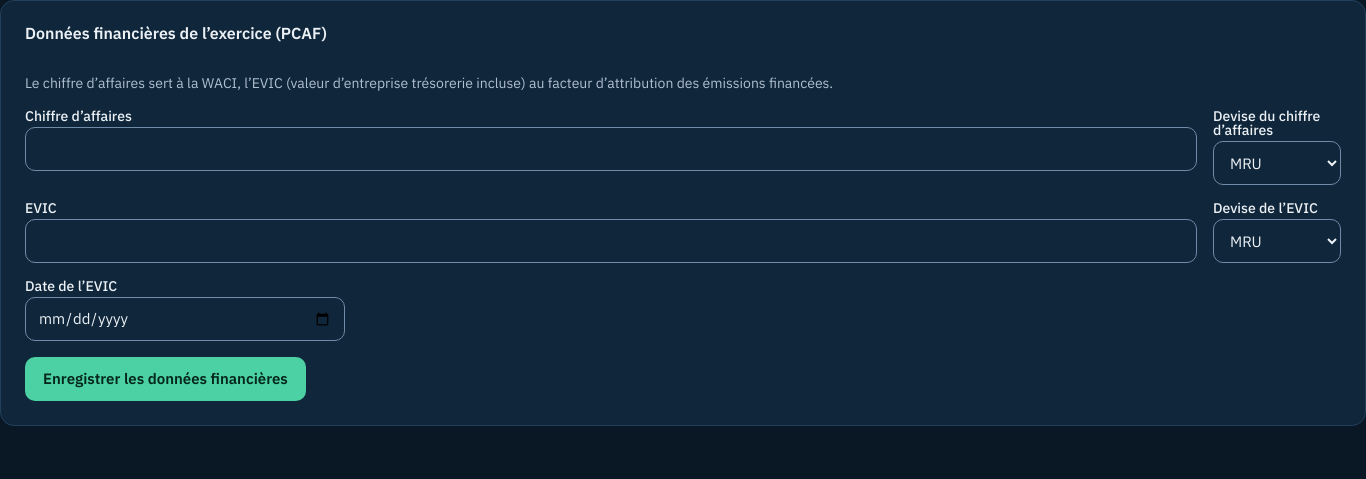
Test: ReportFinancialsCard › envoie le remplacement complet, la devise seulement avec son montant
The width and height of the screenshot is (1366, 479).
Type "1000000.5" into the number field labelled "EVIC".
click(611, 241); type("1000000.5")  # box [25,219,1197,263]
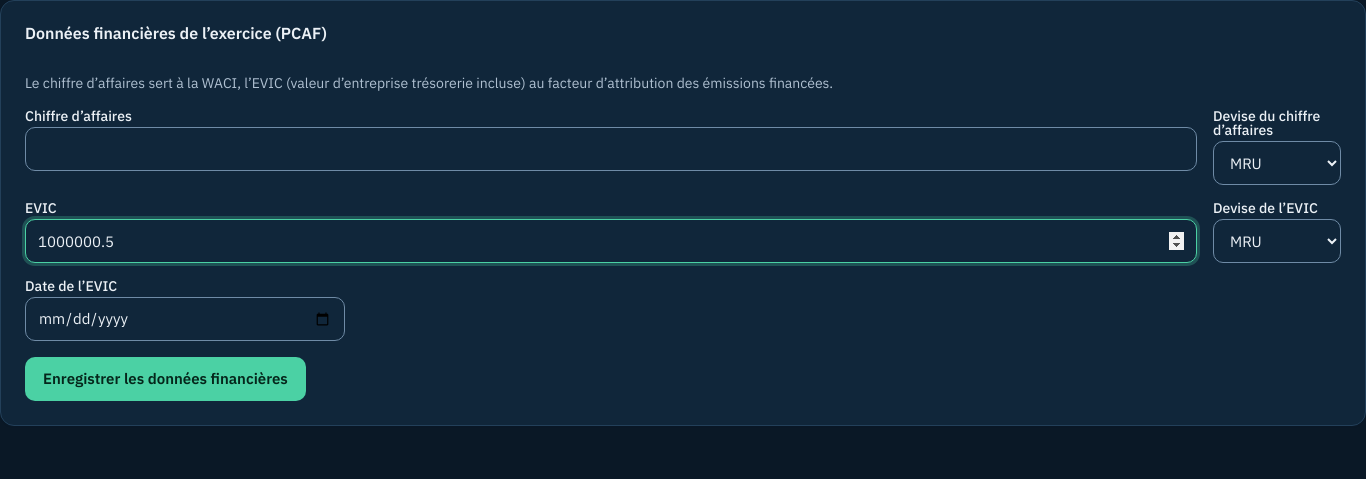
Select "EUR" in the dropdown labelled "Devise de l’EVIC" at (1277, 241), box [1213,219,1341,263]
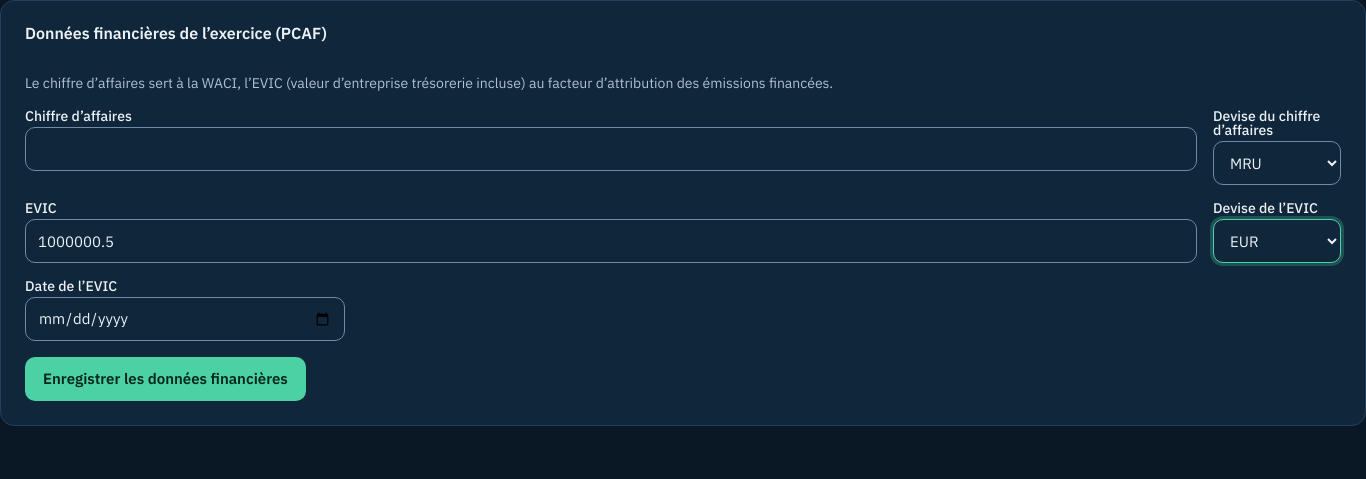
Click the button "Enregistrer les données financières".
click(165, 379)  # box [25,357,306,401]
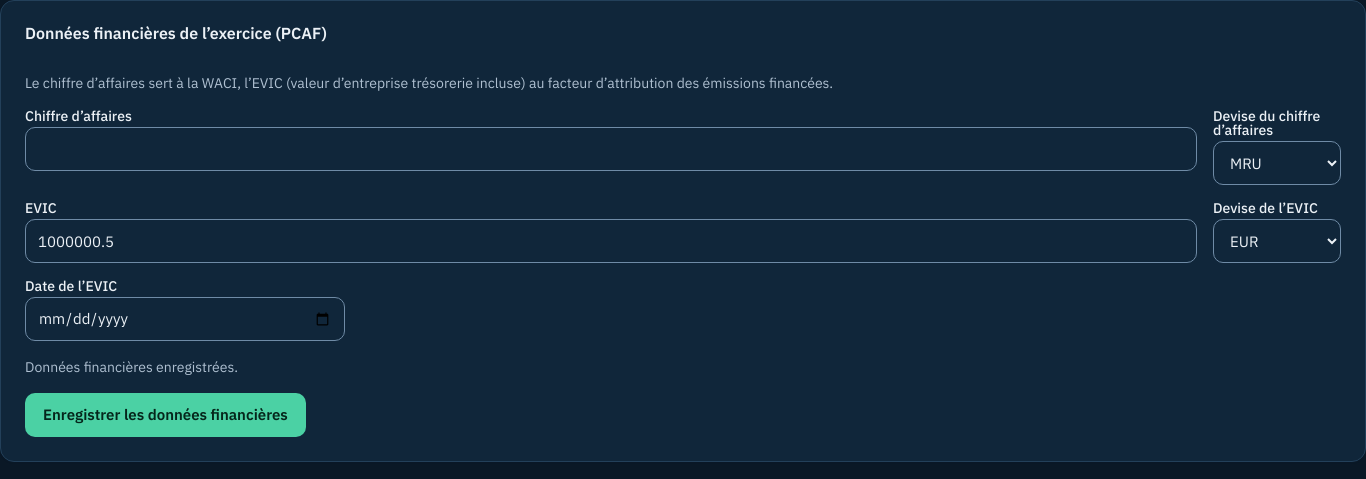
Check: the text "Données financières enregistrées." is shown, box [25,358,238,376]
